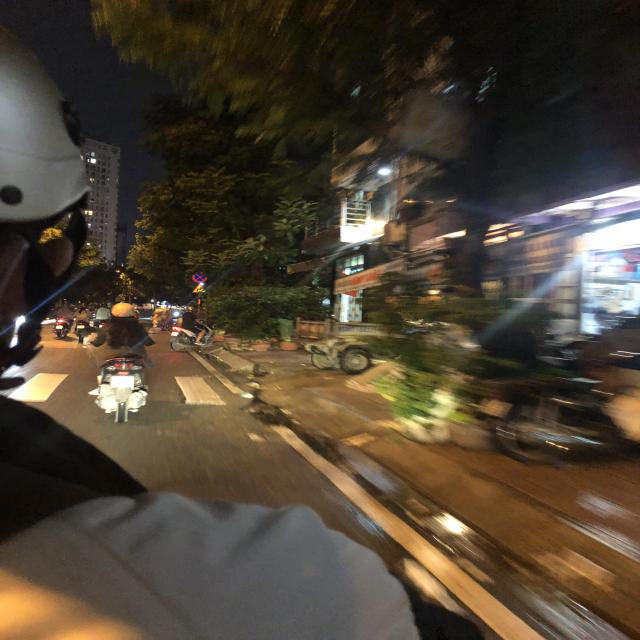Bien bao cam dung xe va do xe: (187, 270, 209, 283)
Bien bao nhieu cho ngoat nguy hiem lien tiep: (190, 283, 208, 294)
